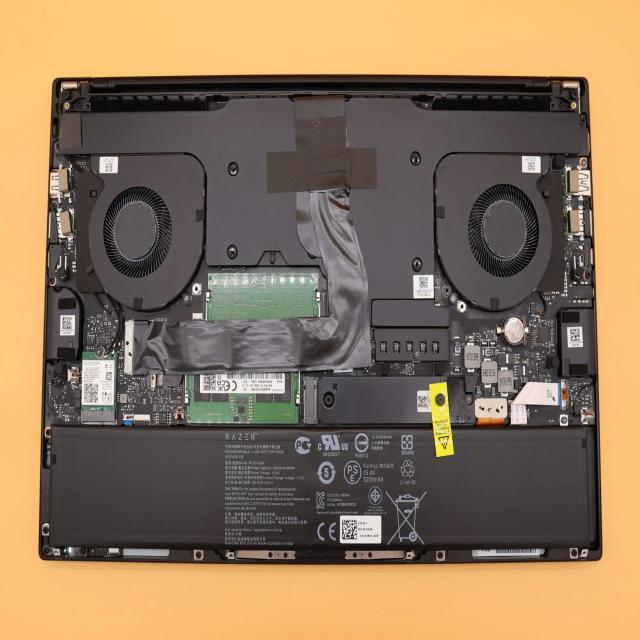NIC: (46, 416, 606, 554)
SSD: (79, 348, 120, 428)
Screw: (226, 158, 243, 179), (228, 242, 241, 264), (409, 148, 422, 167), (414, 256, 425, 275)
